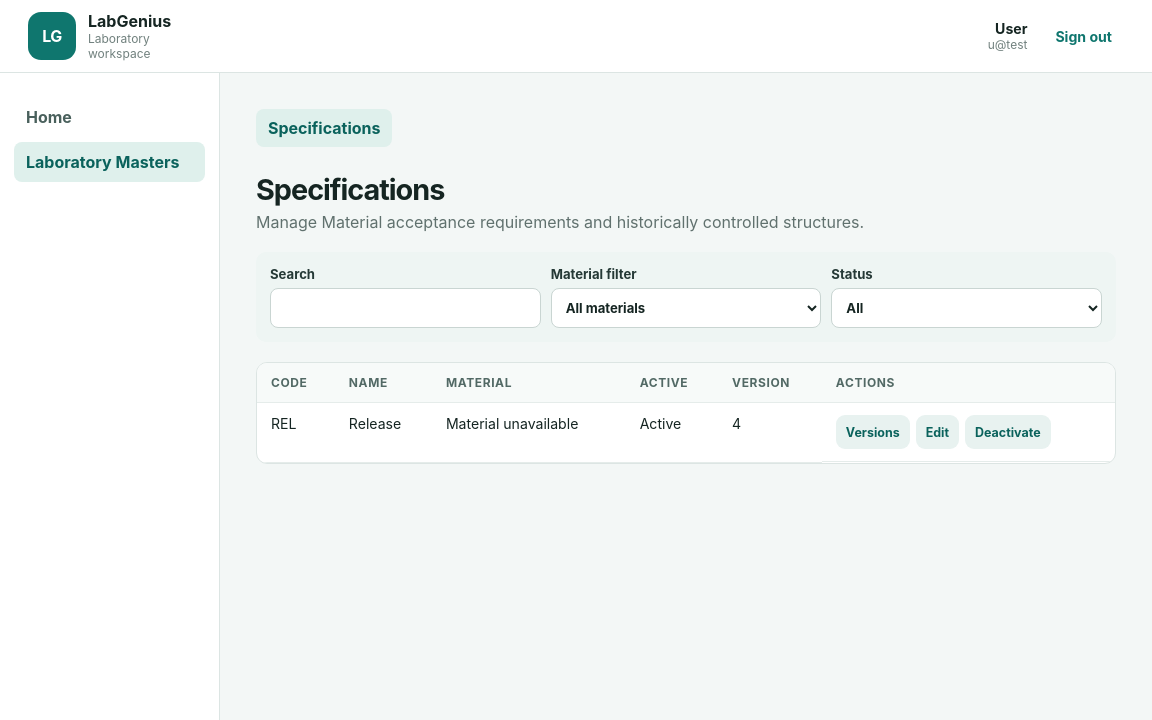
Test: presents backend approval-readiness failures without claiming success
Click the button "Versions".
click(873, 432)  # box [836, 415, 910, 449]
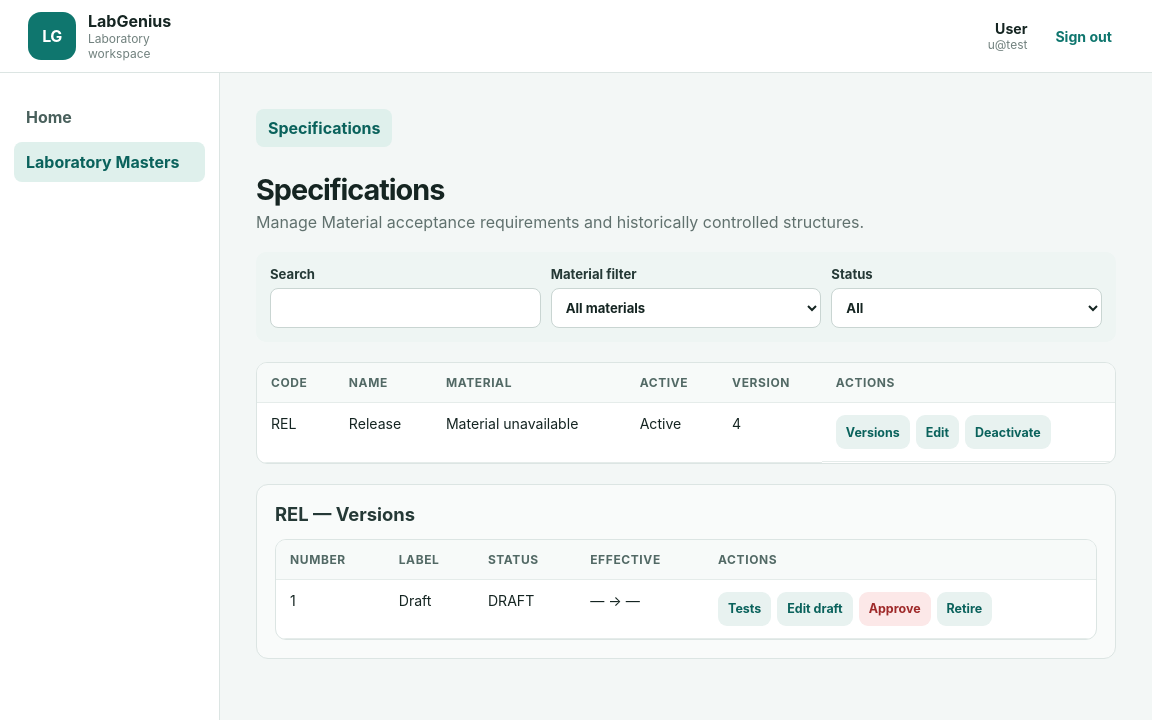
Click the button "Approve".
click(895, 609)  # box [859, 592, 931, 626]
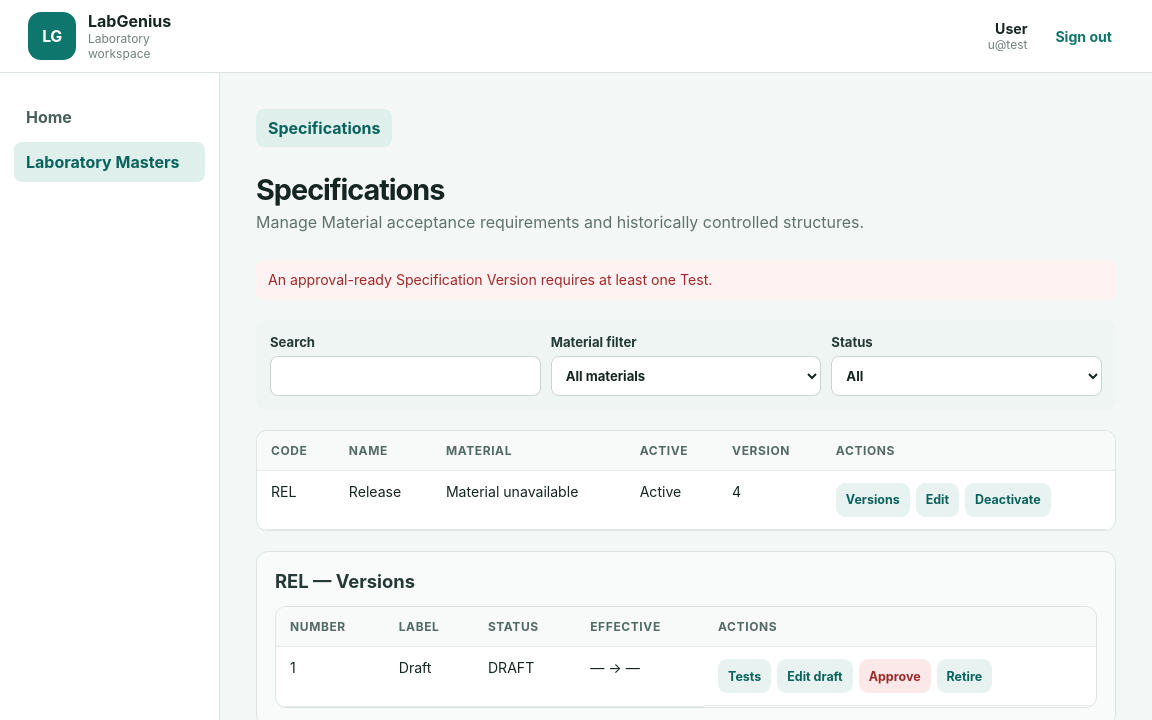
Now the message shows "requires at least one Test", box [268, 271, 712, 288]
